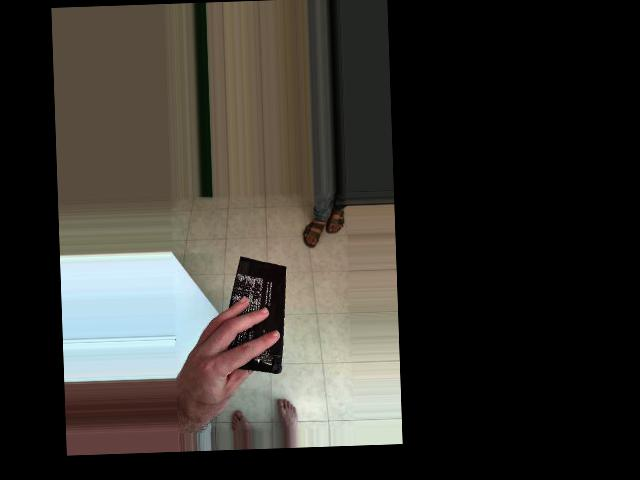chocolate: (229, 250, 359, 331)
